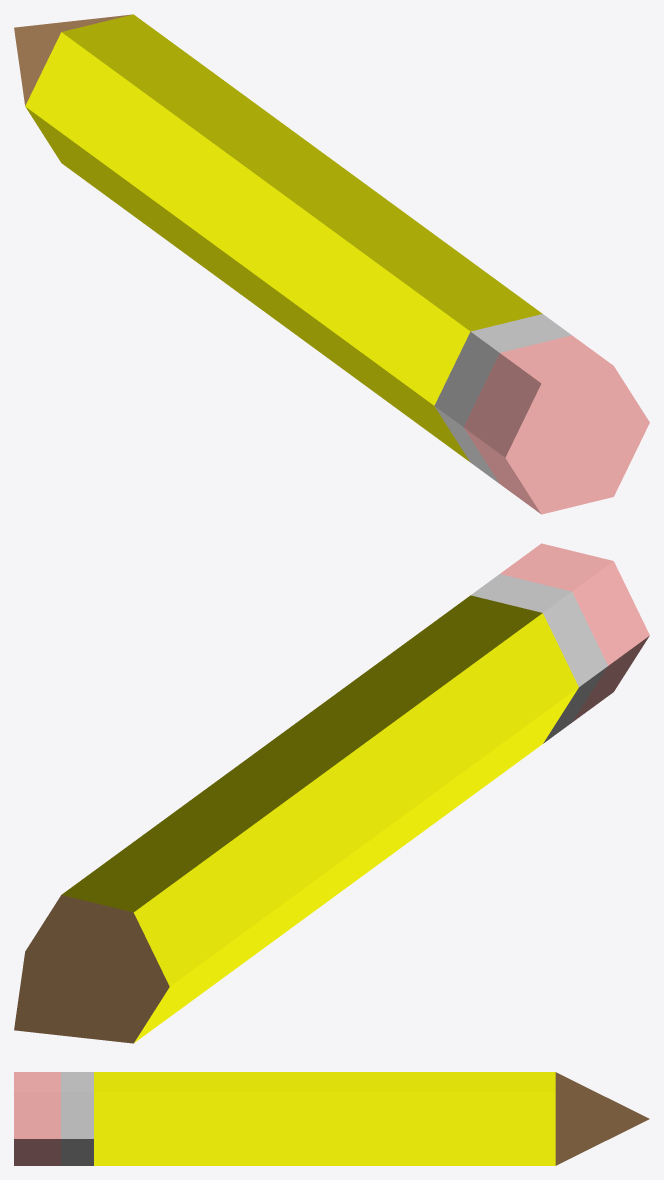
Rendered from pencil.obj.
The picture shows the model from 3 angles, top to bottom: view 1: azimuth 30°, elevation 25°; view 2: azimuth 150°, elevation 25°; view 3: azimuth 270°, elevation 25°; orthographic projection. The views are drawn at different scales.
Visible parts, largest first — view 1: HexagonPrism; view 2: HexagonPrism; view 3: HexagonPrism.
Part boxes in pixels (left/top/right/bottom): HexagonPrism: left=14, top=14, right=649, bottom=514; HexagonPrism: left=14, top=543, right=649, bottom=1043; HexagonPrism: left=14, top=1072, right=649, bottom=1165.
Size of the model in its own units: 2 by 1.73 by 13.5.
